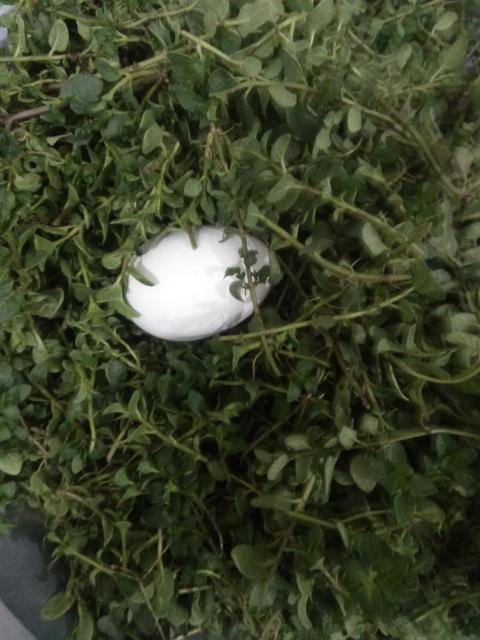Sano: (123, 228, 272, 342)
